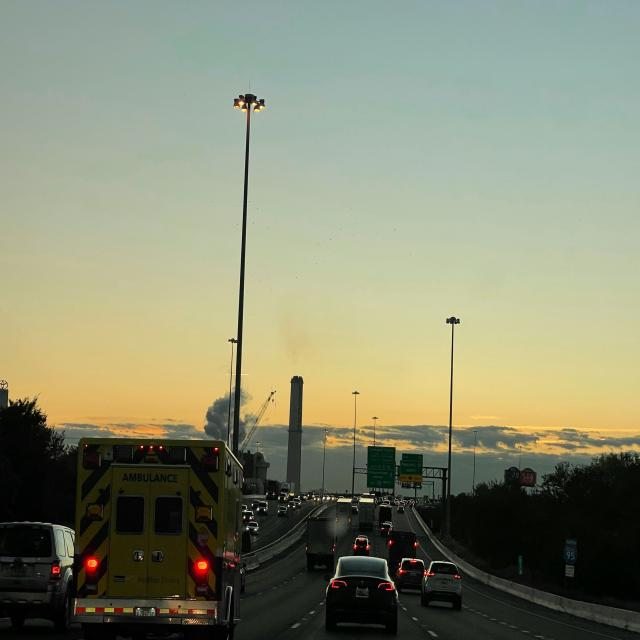Ambulance: (71, 436, 245, 639)
Car: (324, 556, 398, 634), (421, 560, 462, 610), (396, 558, 426, 592), (352, 534, 370, 556), (246, 520, 259, 534), (380, 522, 392, 536)
